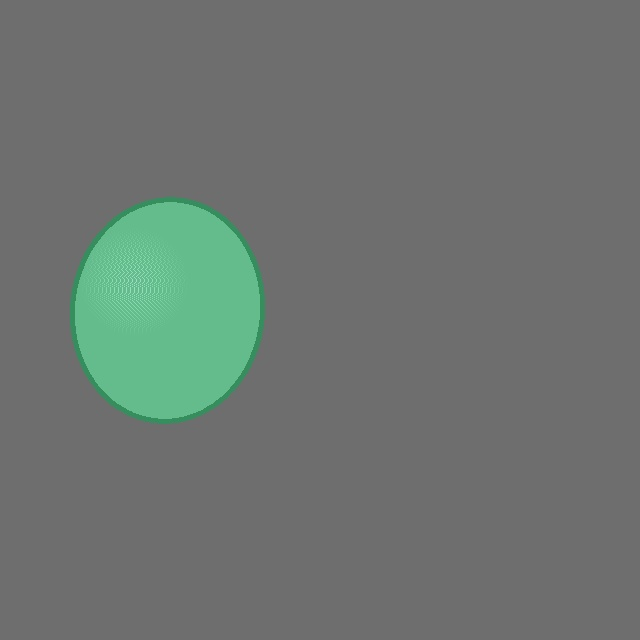lens: (73, 200, 261, 420)
